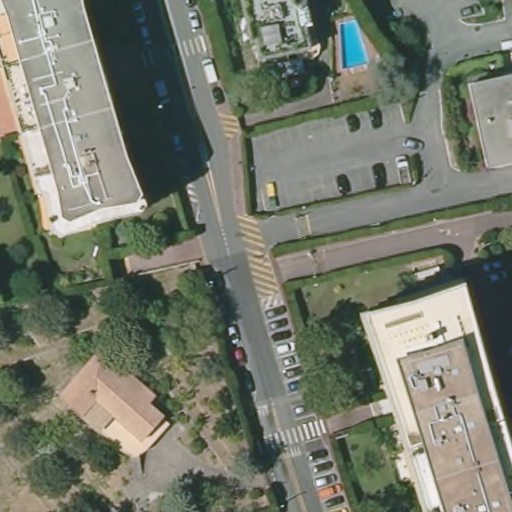pool: (335, 17, 371, 76)
